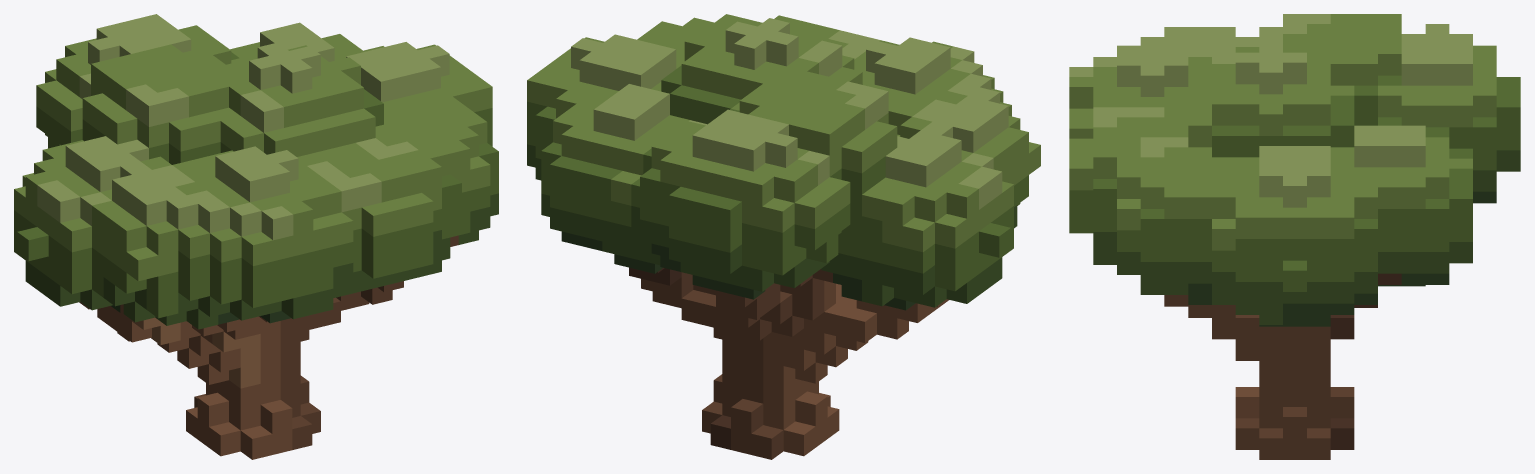
Rendered from apple_ancient.glb.
The picture shows the model from 3 angles, left to right: view 1: azimuth 30°, elevation 25°; view 2: azimuth 150°, elevation 25°; view 3: azimuth 270°, elevation 25°; orthographic projection. The views are drawn at different scales.
Parts seen in each view (by area): view 1: apple_ancient; view 2: apple_ancient; view 3: apple_ancient.
Boxes of the visible parts, box(x1,y1,x2,y2) form: apple_ancient: box(14, 14, 498, 459); apple_ancient: box(527, 14, 1040, 459); apple_ancient: box(1069, 14, 1520, 459).
Bounding box in the file's own units: 23 × 18 × 19.
